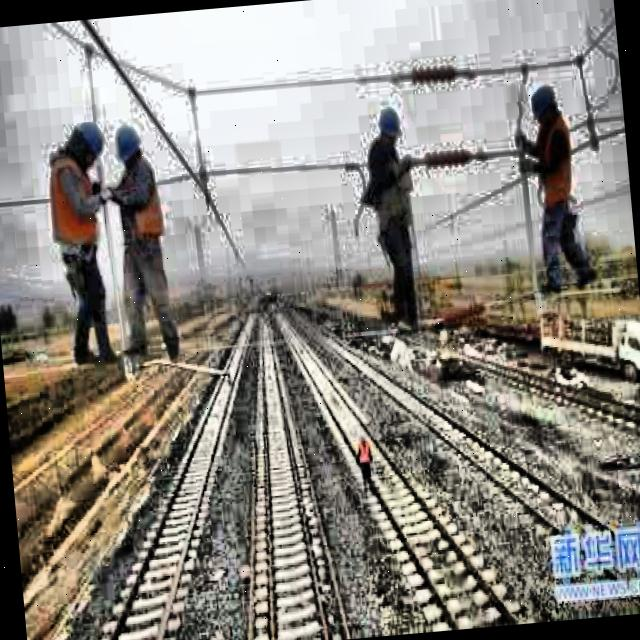helmet: (64, 118, 109, 170), (529, 80, 562, 138), (112, 122, 146, 175), (376, 103, 406, 156)
